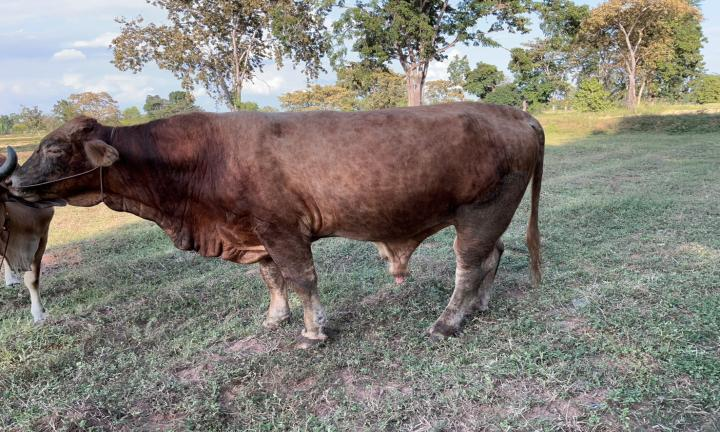Charolais: (7, 102, 544, 347)
